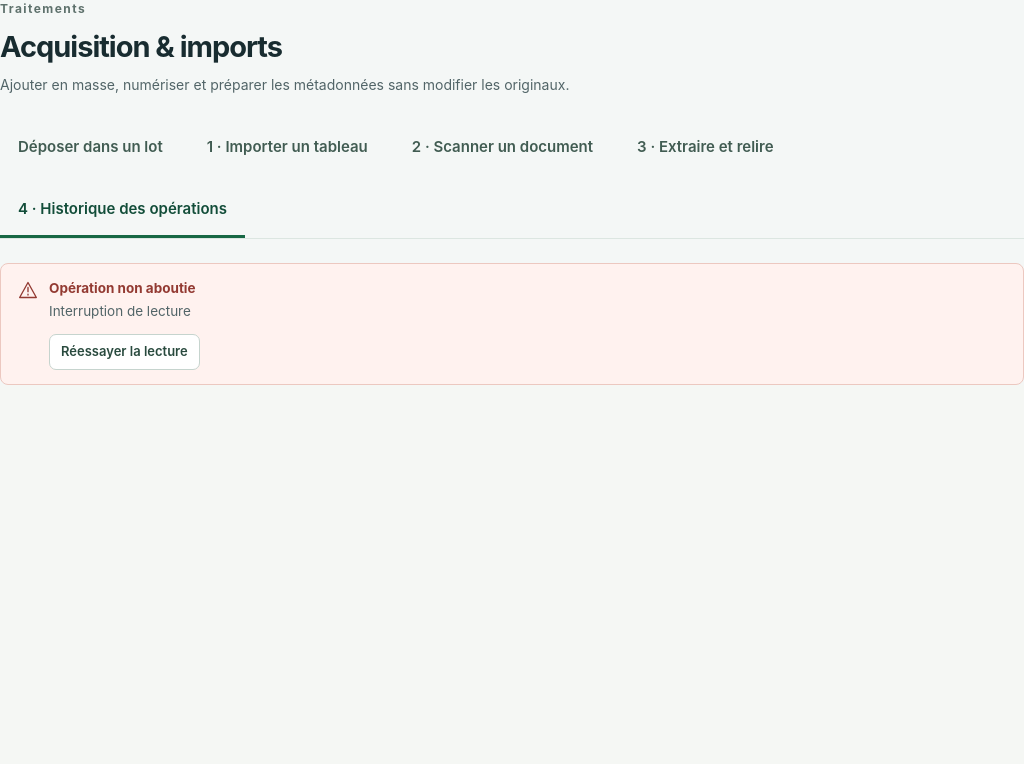
présente une erreur de lecture et permet une nouvelle lecture
Check: the text "Interruption de lecture" is shown, box x1=49 y1=299 x2=200 y2=324
Click the button "Réessayer la lecture".
click(124, 352)  # box x1=49 y1=334 x2=200 y2=370
(page scrolled)
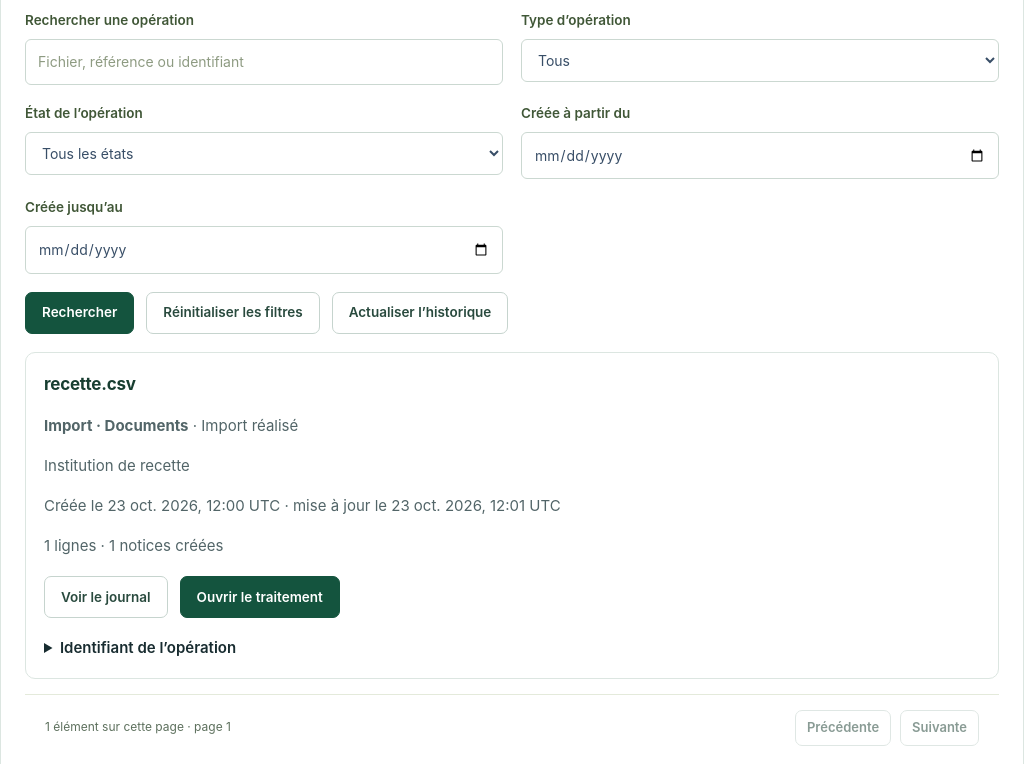
Check: the heading "recette.csv" is shown, box x1=44 y1=374 x2=136 y2=394
